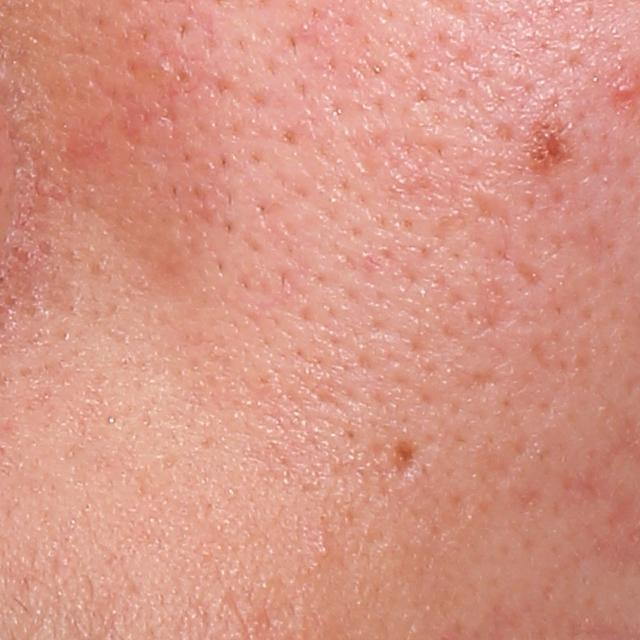atrophic_scar: (471, 189, 513, 229), (389, 436, 420, 483), (510, 259, 544, 291)
comedo: (312, 542, 335, 561)
nevus: (527, 108, 574, 176)
